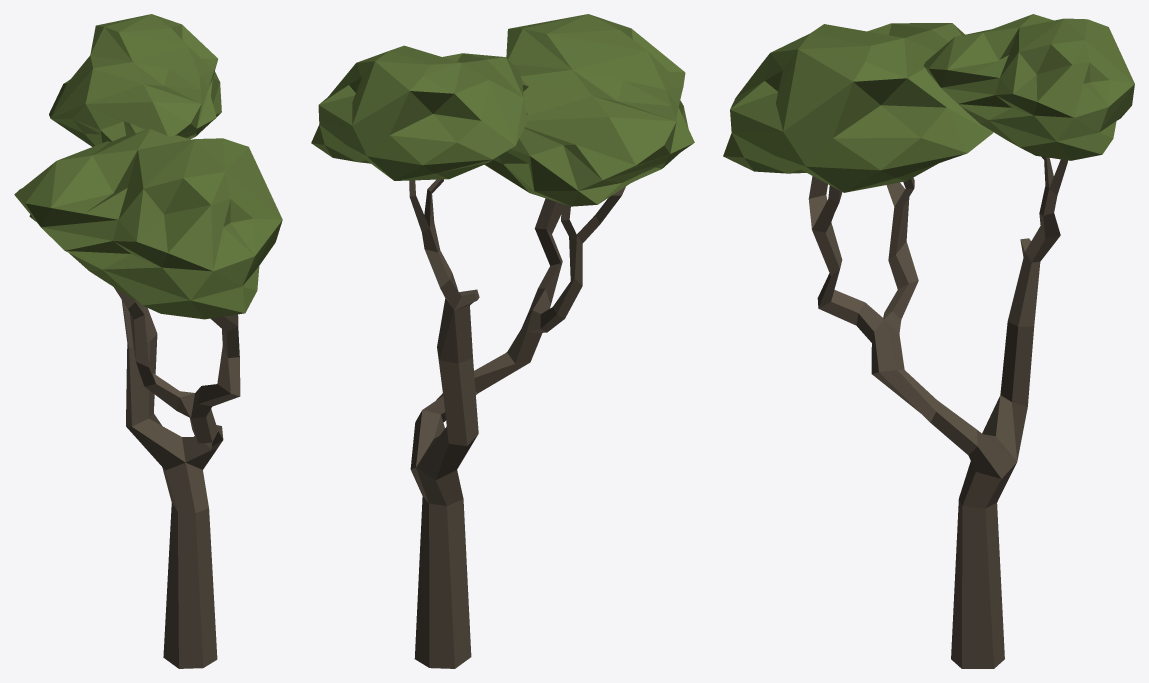
File: SM_Env_Tree_01.fbx
The picture shows the model from 3 angles, left to right: view 1: azimuth 30°, elevation 25°; view 2: azimuth 150°, elevation 25°; view 3: azimuth 270°, elevation 25°; orthographic projection. The views are drawn at different scales.
Visible parts, largest first — view 1: SM_Env_Tree_01; view 2: SM_Env_Tree_01; view 3: SM_Env_Tree_01.
Boxes of the visible parts, x1=… form: SM_Env_Tree_01: x1=14, y1=14, x2=282, y2=668; SM_Env_Tree_01: x1=311, y1=14, x2=694, y2=668; SM_Env_Tree_01: x1=723, y1=14, x2=1134, y2=668.
Bounding box in the file's own units: 187 × 421 × 251.
